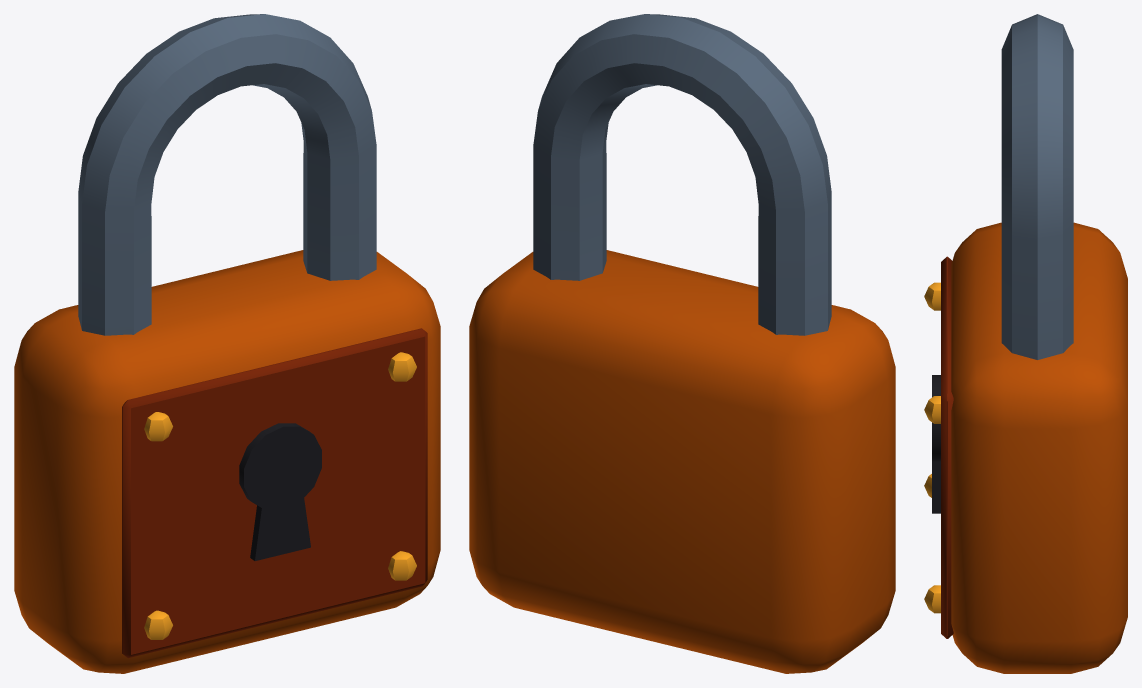
Rendered from Lock.obj.
3 views of the same model, side by side, from view 1: azimuth 30°, elevation 25°; view 2: azimuth 150°, elevation 25°; view 3: azimuth 270°, elevation 25° (orthographic). The views are drawn at different scales.
Visible parts, largest first — view 1: Lock; view 2: Lock; view 3: Lock.
Boxes of the visible parts, x1=… form: Lock: x1=14, y1=14, x2=440, y2=673; Lock: x1=469, y1=14, x2=895, y2=673; Lock: x1=924, y1=14, x2=1127, y2=673.
Size of the model in its own units: 1.6 by 2.47 by 0.79.
